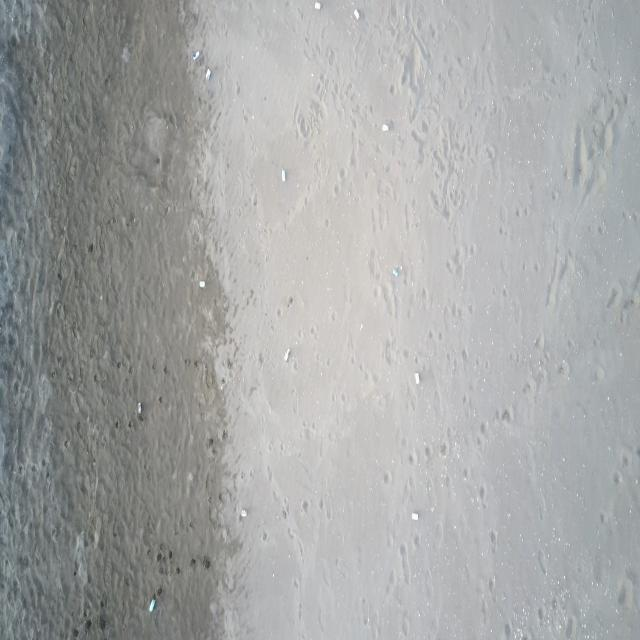Garbage: (136, 402, 143, 420), (121, 45, 128, 63), (148, 597, 155, 612), (392, 264, 400, 276), (192, 49, 200, 60), (204, 68, 211, 80), (353, 8, 360, 19), (283, 348, 289, 360), (413, 372, 419, 384), (240, 507, 247, 517), (136, 402, 141, 415), (280, 167, 284, 181), (313, 0, 320, 8), (380, 123, 387, 131), (411, 512, 417, 520), (199, 280, 203, 287)
